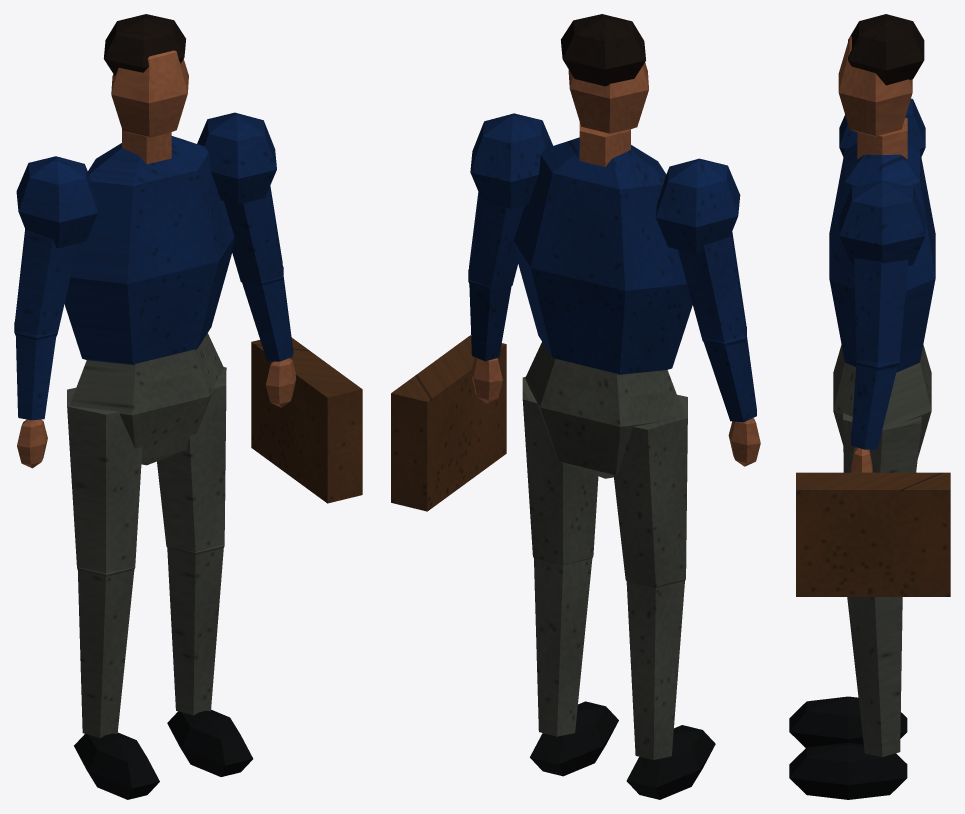
File: PROP-EBA4EF231506_lod2.glb
3 views of the same model, side by side, from view 1: azimuth 30°, elevation 25°; view 2: azimuth 150°, elevation 25°; view 3: azimuth 270°, elevation 25° (orthographic). The views are drawn at different scales.
Visible parts, largest first — view 1: torso.020, thigh.019, calf.019, briefcase.004, shoulder.020, pelvis.019, upper_arm.020, shoe.019, forearm.020, head.019, hair_cap.019, hand.019 (+1 smaller); view 2: torso.020, thigh.019, calf.019, briefcase.004, shoulder.020, pelvis.019, upper_arm.020, shoe.019, forearm.020, hair_cap.019, head.019, hand.019 (+1 smaller); view 3: briefcase.004, torso.020, shoe.019, calf.019, shoulder.020, upper_arm.020, hair_cap.019, head.019, pelvis.019, forearm.020, thigh.019, neck.019 (+2 smaller).
Part boxes in pixels (left/top/right/bottom): torso.020: left=64, top=136, right=234, bottom=364; thigh.019: left=67, top=367, right=226, bottom=572; calf.019: left=77, top=548, right=223, bottom=737; briefcase.004: left=251, top=337, right=362, bottom=503; shoulder.020: left=16, top=112, right=276, bottom=248; pelvis.019: left=69, top=333, right=223, bottom=465; upper_arm.020: left=15, top=186, right=282, bottom=334; shoe.019: left=74, top=709, right=253, bottom=799; forearm.020: left=16, top=277, right=293, bottom=420; head.019: left=111, top=50, right=188, bottom=137; hair_cap.019: left=103, top=14, right=185, bottom=76; hand.019: left=17, top=358, right=296, bottom=468; torso.020: left=513, top=137, right=692, bottom=374; thigh.019: left=522, top=377, right=687, bottom=586; calf.019: left=534, top=558, right=684, bottom=759; briefcase.004: left=391, top=335, right=506, bottom=511; shoulder.020: left=470, top=113, right=740, bottom=253; pelvis.019: left=525, top=342, right=685, bottom=478; upper_arm.020: left=468, top=192, right=746, bottom=341; shoe.019: left=530, top=701, right=715, bottom=799; forearm.020: left=469, top=284, right=756, bottom=422; hair_cap.019: left=561, top=14, right=645, bottom=86; head.019: left=568, top=62, right=648, bottom=133; hand.019: left=471, top=357, right=760, bottom=466; briefcase.004: left=796, top=472, right=950, bottom=596; torso.020: left=829, top=143, right=935, bottom=372; shoe.019: left=789, top=696, right=907, bottom=799; calf.019: left=847, top=597, right=902, bottom=756; shoulder.020: left=839, top=98, right=925, bottom=265; upper_arm.020: left=854, top=258, right=908, bottom=362; hair_cap.019: left=848, top=14, right=924, bottom=85; head.019: left=838, top=36, right=912, bottom=136; pelvis.019: left=833, top=344, right=931, bottom=458; forearm.020: left=851, top=364, right=897, bottom=449; thigh.019: left=843, top=413, right=921, bottom=472; neck.019: left=857, top=117, right=907, bottom=159.
Bounding box in the file's own units: 0.805 × 1.84 × 0.3549.
6 materials, 6 textured.
